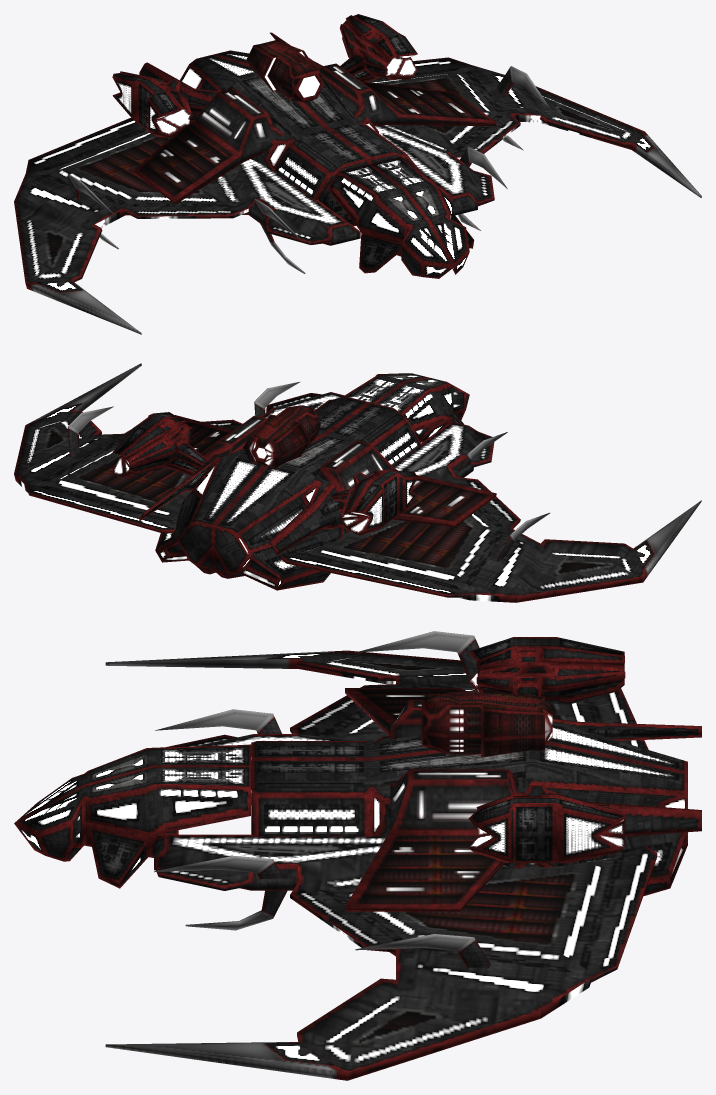
File: redship.dae
3 views of the same model, one above another, from view 1: azimuth 30°, elevation 25°; view 2: azimuth 150°, elevation 25°; view 3: azimuth 270°, elevation 25° (orthographic). The views are drawn at different scales.
Visible parts, largest first — view 1: PirateStarshipVariantA; view 2: PirateStarshipVariantA; view 3: PirateStarshipVariantA.
Part boxes in pixels (<box>): PirateStarshipVariantA: <box>14,14,701,334</box>; PirateStarshipVariantA: <box>14,363,701,602</box>; PirateStarshipVariantA: <box>14,631,701,1080</box>.
Size of the model in its own units: 20.51 by 14.12 by 4.
2 materials, 2 textured.
